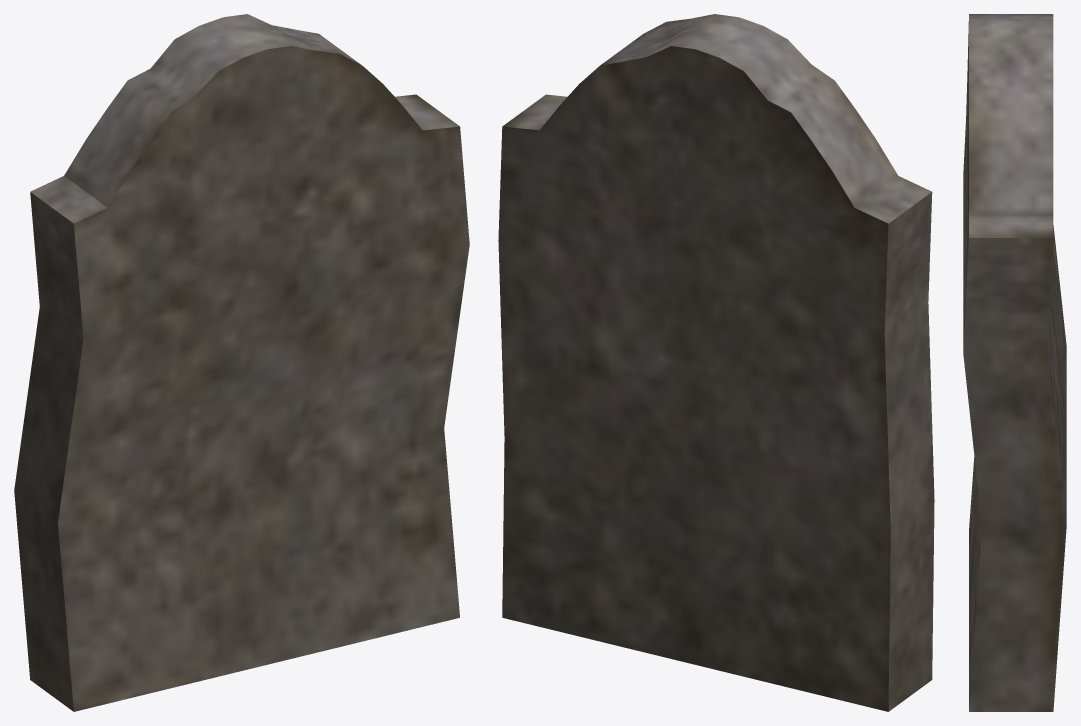
File: pr_grave1.glb
3 renders of one model, left to right at view 1: azimuth 30°, elevation 25°; view 2: azimuth 150°, elevation 25°; view 3: azimuth 270°, elevation 25°, orthographic. The views are drawn at different scales.
Parts seen in each view (by area): view 1: body|Graves; view 2: body|Graves; view 3: body|Graves.
Boxes of the visible parts, left/top/right/bottom form: body|Graves: left=14, top=14, right=469, bottom=711; body|Graves: left=498, top=14, right=934, bottom=711; body|Graves: left=963, top=14, right=1066, bottom=711.
Size of the model in its own units: 0.6401 by 0.9366 by 0.1475.
1 material, 1 textured.
